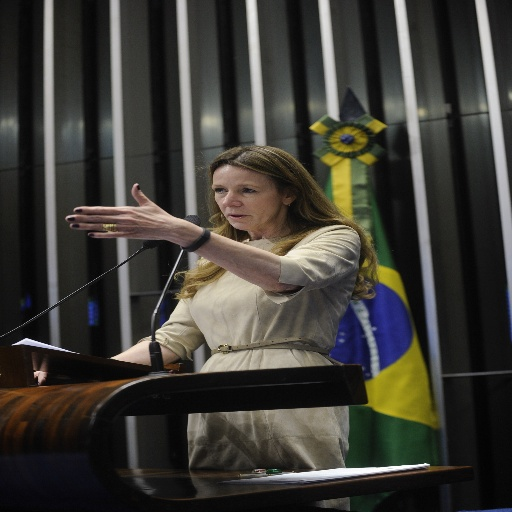hand: (59, 202, 205, 237)
